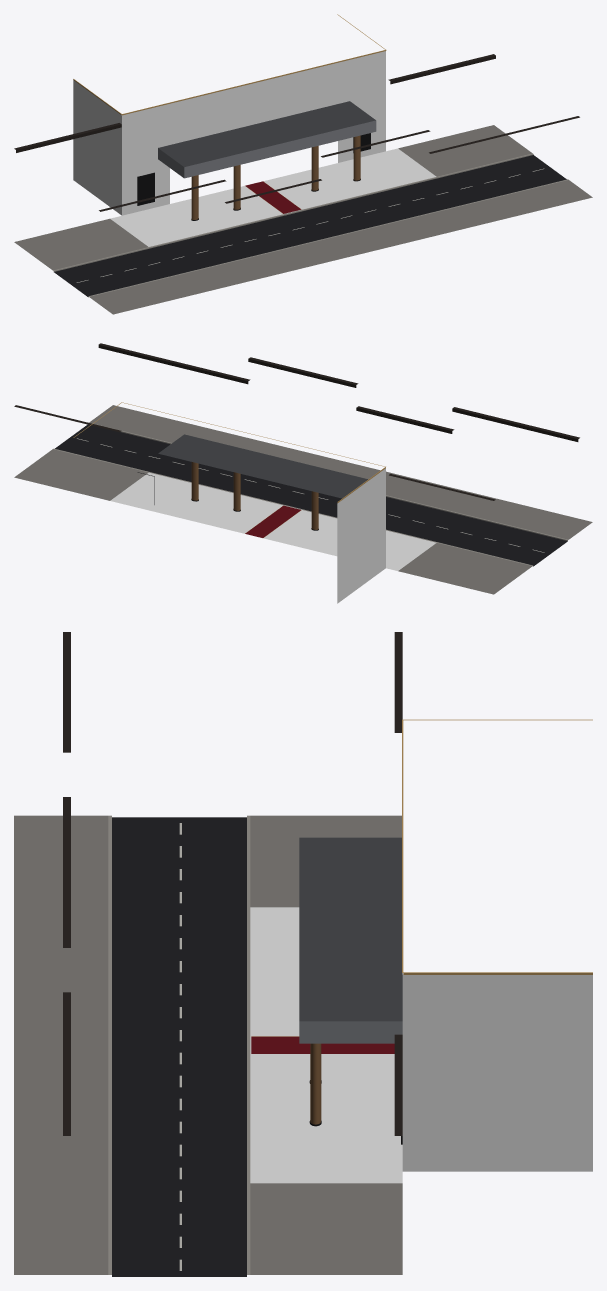
The model's file is street.glb.
3 views of the same model, one above another, from view 1: azimuth 30°, elevation 25°; view 2: azimuth 150°, elevation 25°; view 3: azimuth 270°, elevation 25° (orthographic). The views are drawn at different scales.
Visible parts, largest first — view 1: street; view 2: street; view 3: street.
Part boxes in pixels (x1,y1,x2,y2): street: (14,14,592,314); street: (14,343,592,603); street: (14,632,592,1276).
Size of the model in its own units: 80 by 16.3 by 42.6.
